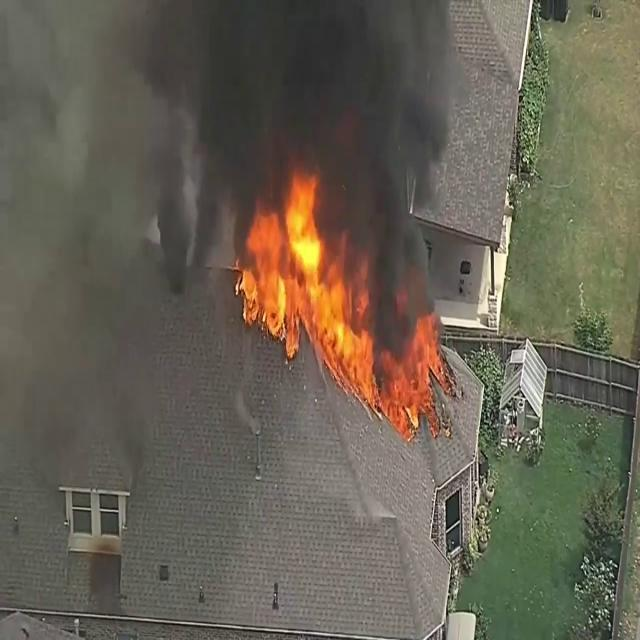Fire: (232, 171, 374, 396), (384, 307, 448, 437)
Smoke: (5, 0, 459, 268)
